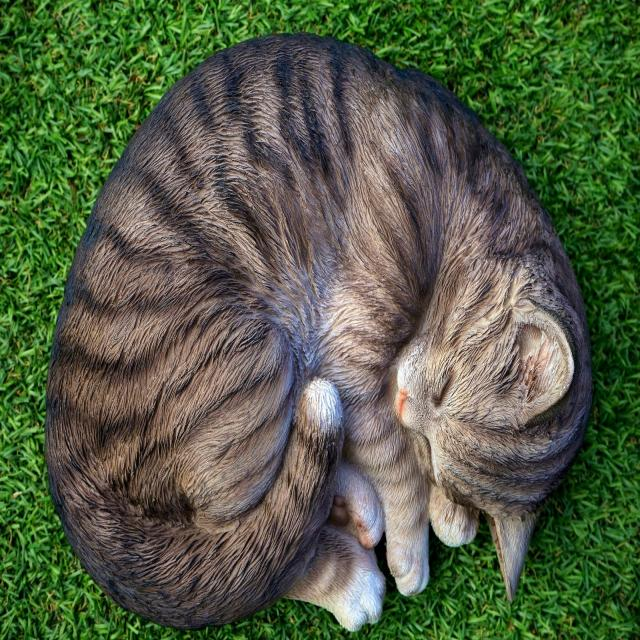cat: (44, 26, 592, 640)
